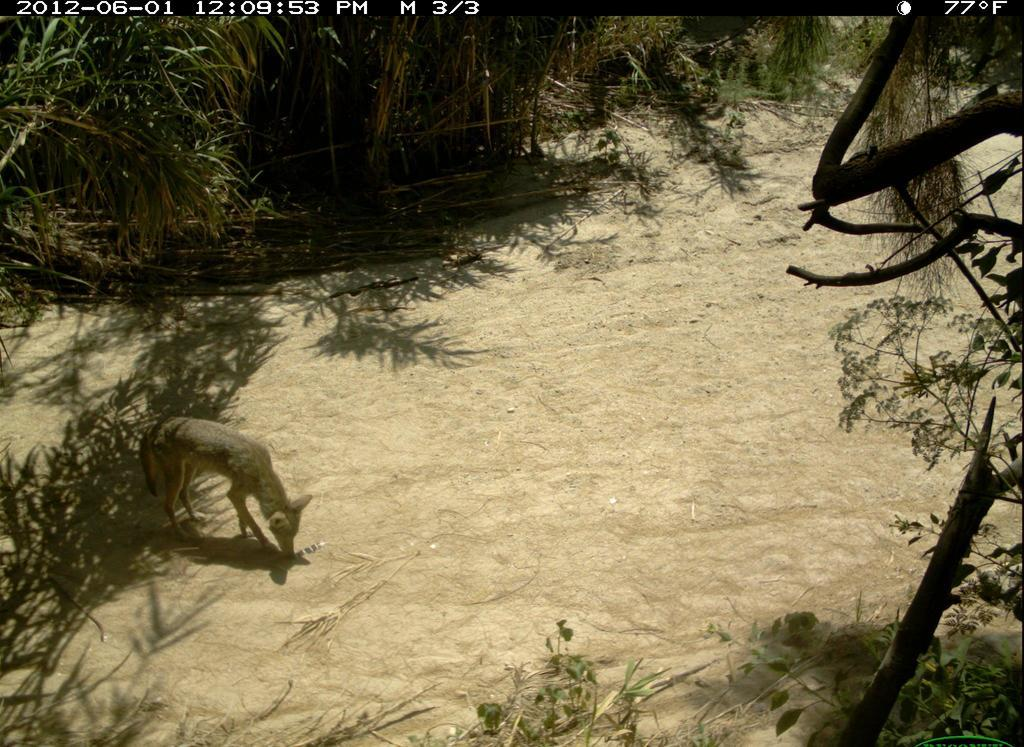coyote: (132, 408, 318, 568)
